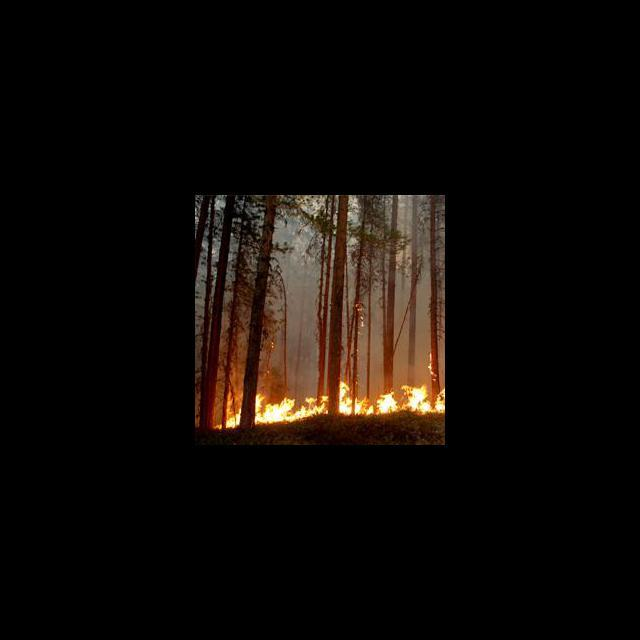Fire: (201, 373, 445, 431)
